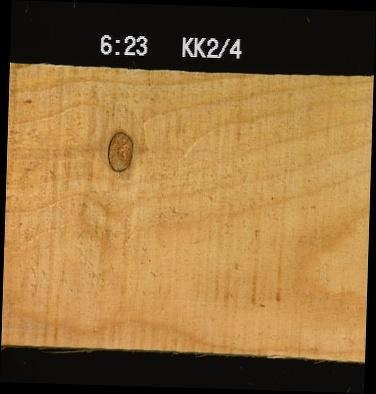dry_knot: (106, 129, 135, 172)
